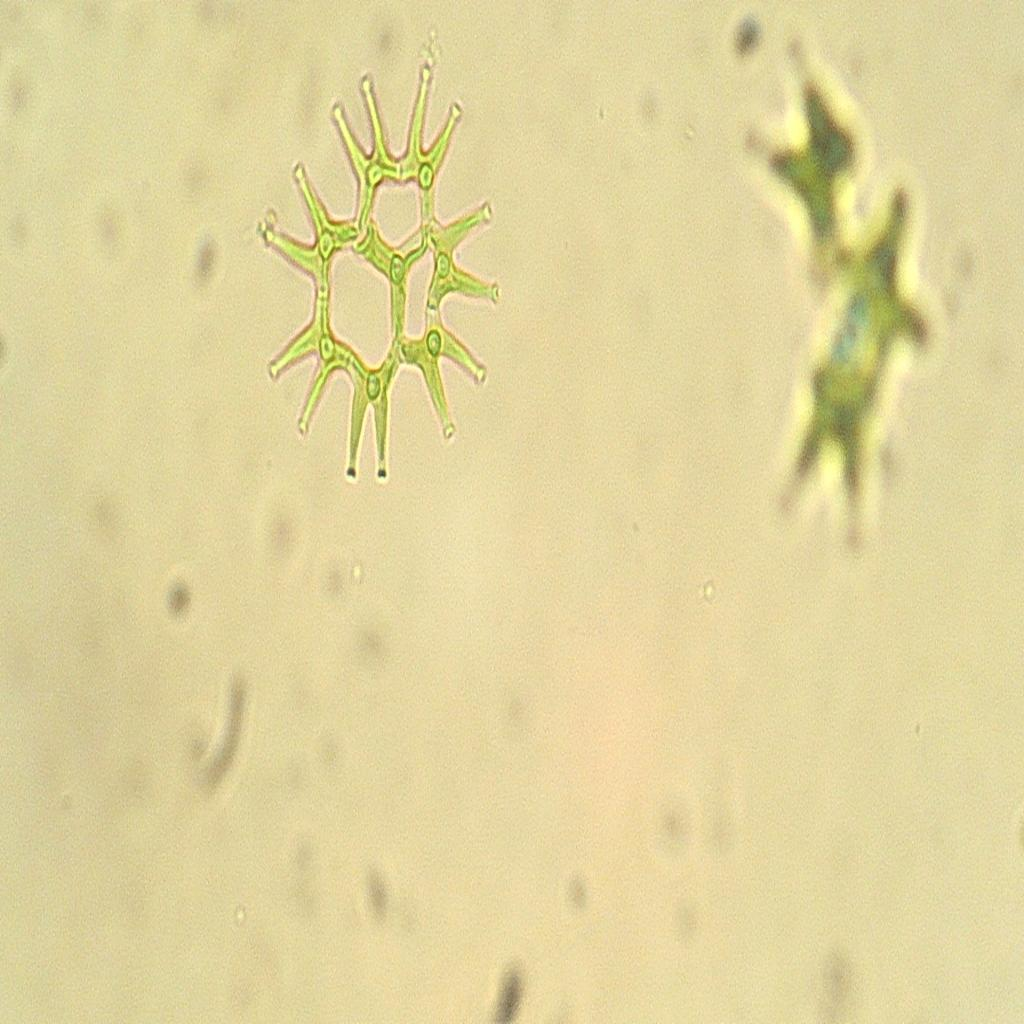Pediastrum_1T: (256, 37, 512, 501)
